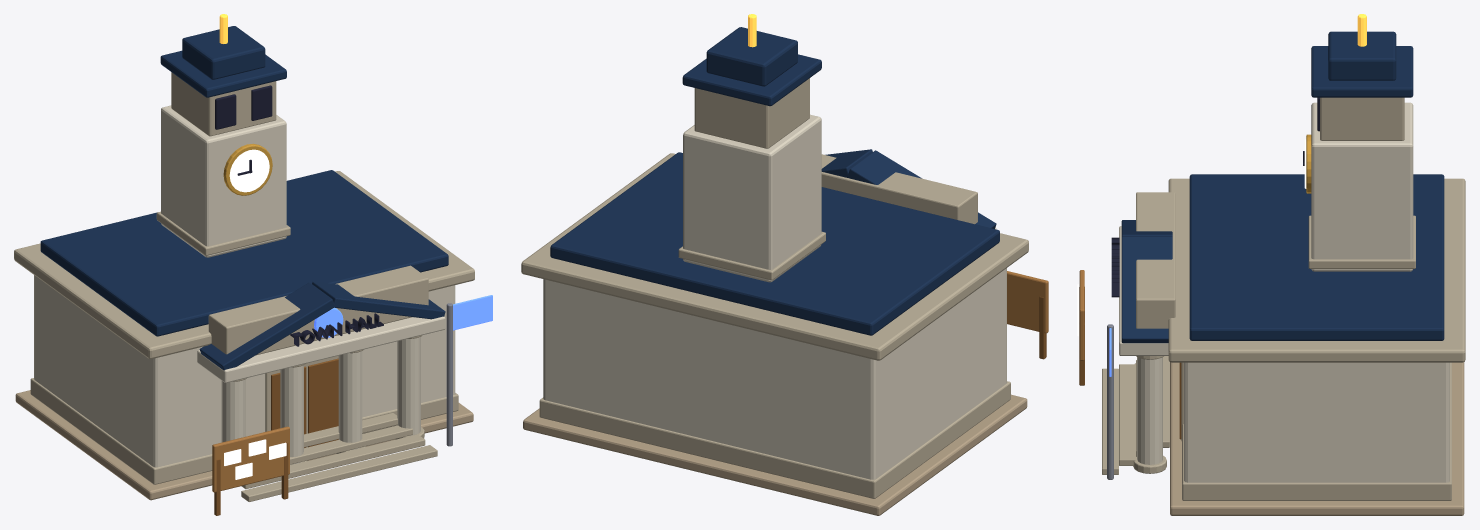
The model's file is town-hall.glb.
3 renders of one model, left to right at view 1: azimuth 30°, elevation 25°; view 2: azimuth 150°, elevation 25°; view 3: azimuth 270°, elevation 25°, orthographic. The views are drawn at different scales.
Parts seen in each view (by area): view 1: roof, hall, tower, cornice, tympanum, architrave, plinth, base_band, tower_roof_b, pediment_l, belfry, notice_board (+21 smaller); view 2: hall, roof, tower, cornice, base_band, plinth, belfry, tympanum, tower_roof_b, tower_roof_a, notice_board, tower_band (+2 smaller); view 3: roof, hall, tower, cornice, plinth, base_band, tympanum, belfry, tower_roof_b, tower_roof_a, pediment_r, column_3 (+9 smaller).
Boxes of the visible parts, box(x1,y1,x2,y2) form: roof: box(40, 170, 448, 336); hall: box(34, 275, 455, 467); tower: box(161, 105, 286, 257); cornice: box(14, 171, 474, 359); tympanum: box(208, 265, 428, 355); architrave: box(197, 316, 445, 382); plinth: box(15, 390, 473, 500); base_band: box(30, 378, 458, 484); tower_roof_b: box(182, 26, 265, 79); pediment_l: box(199, 282, 334, 370); belfry: box(171, 72, 276, 136); notice_board: box(212, 426, 289, 492); hall: box(543, 268, 1006, 479); roof: box(550, 152, 999, 335); tower: box(683, 114, 821, 282); cornice: box(521, 153, 1028, 360); base_band: box(539, 381, 1010, 498); plinth: box(523, 394, 1027, 515); belfry: box(694, 78, 809, 148); tympanum: box(821, 154, 977, 224); tower_roof_b: box(706, 27, 797, 86); tower_roof_a: box(682, 54, 821, 106); notice_board: box(1007, 271, 1048, 333); tower_band: box(678, 231, 825, 280); roof: box(1189, 174, 1444, 340); hall: box(1184, 362, 1449, 482); tower: box(1311, 102, 1413, 271); cornice: box(1168, 178, 1465, 362); plinth: box(1170, 362, 1464, 515); base_band: box(1182, 362, 1451, 500); tympanum: box(1136, 192, 1175, 328); belfry: box(1320, 97, 1404, 140); tower_roof_b: box(1328, 31, 1396, 80); tower_roof_a: box(1311, 46, 1413, 97); pediment_r: box(1121, 236, 1172, 343); column_3: box(1137, 357, 1162, 464).
Bounding box in the file's own units: 14.5 × 16.2 × 13.72.
